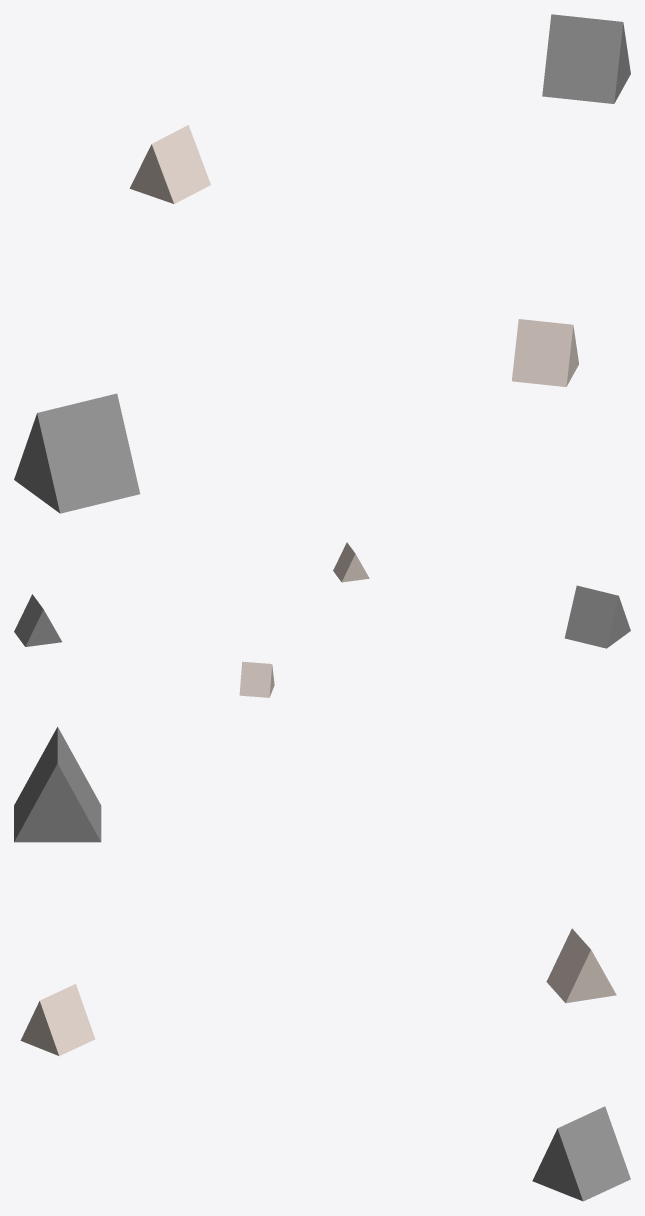
The model's file is Playground_figurine_triangles.fbx.
3 views of the same model, one above another, from view 1: azimuth 30°, elevation 25°; view 2: azimuth 150°, elevation 25°; view 3: azimuth 270°, elevation 25° (orthographic). The views are drawn at different scales.
Visible parts, largest first — view 1: Playground_figurine_triangles; view 2: Playground_figurine_triangles; view 3: Playground_figurine_triangles.
Boxes of the visible parts, x1,y1,x2,y2 form: Playground_figurine_triangles: [14, 14, 630, 513]; Playground_figurine_triangles: [14, 542, 630, 697]; Playground_figurine_triangles: [14, 726, 630, 1201].
Bounding box in the file's own units: 94.15 × 8.7 × 61.09.
